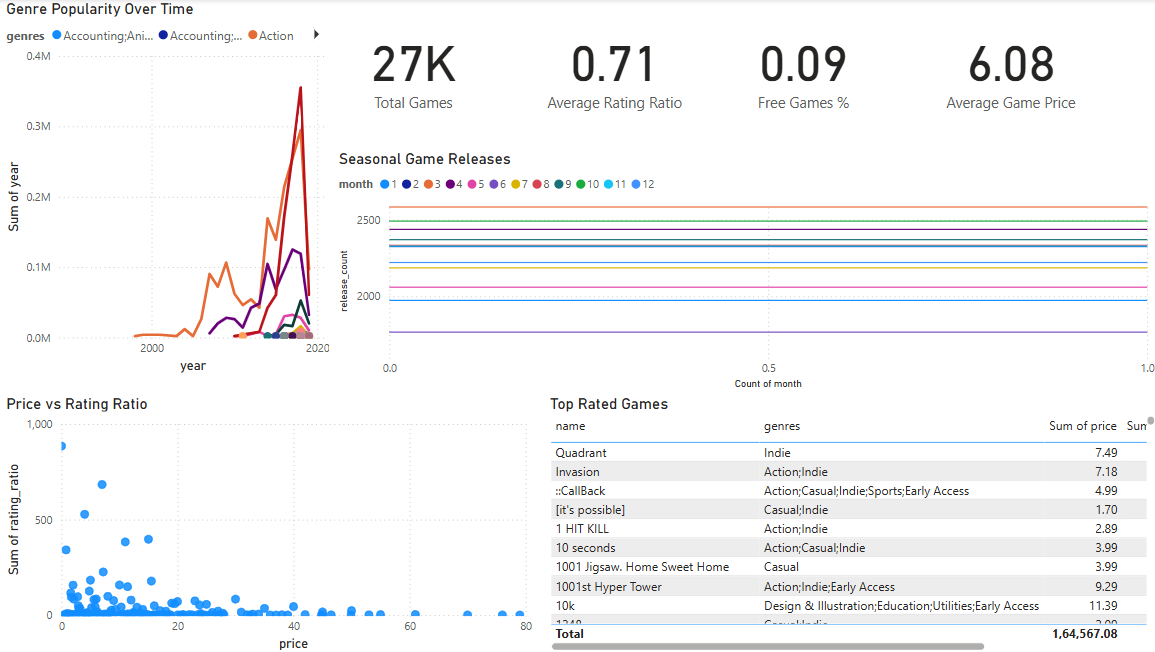

This screenshot's page, from the dashboard's own definition file:
{"tool":"powerbi","page":{"name":"Page 1","canvas":[1280,720],"ordinal":0},"visuals":[{"type":"lineChart","title":"Genre Popularity Over Time","fields":{"Category":["steam_cleaned.year"],"Series":["steam_cleaned.genres"],"Y":["Sum(steam_cleaned.year)"]},"box":[9.6,0,587.3,359.5],"z":0},{"type":"scatterChart","title":"Price vs Rating Ratio","fields":{"X":["steam_cleaned.price"],"Y":["Sum(steam_cleaned.rating_ratio)"]},"box":[10,370,587,350],"z":1},{"type":"barChart","title":"Seasonal Game Releases","fields":{"Category":["monthly_release.release_count"],"Y":["CountNonNull(monthly_release.month)"],"Series":["monthly_release.month"]},"box":[607,0,587,360],"z":2},{"type":"tableEx","title":"Top Rated Games","fields":{"Values":["steam_cleaned.name","steam_cleaned.genres","Sum(steam_cleaned.price)","Sum(steam_cleaned.positive_ratings)","Sum(steam_cleaned.rating_ratio)"]},"box":[607,370,587,350],"z":3}]}

Visuals, with their boxes in screenshot pixels (x1, y1, x2, y2), scaled from the page's 1280x720 canvas onto the 1155x652 screenshot:
"Genre Popularity Over Time" lineChart: [x1=9, y1=0, x2=539, y2=326]
"Price vs Rating Ratio" scatterChart: [x1=9, y1=335, x2=539, y2=651]
"Seasonal Game Releases" barChart: [x1=548, y1=0, x2=1077, y2=326]
"Top Rated Games" tableEx: [x1=548, y1=335, x2=1077, y2=651]
